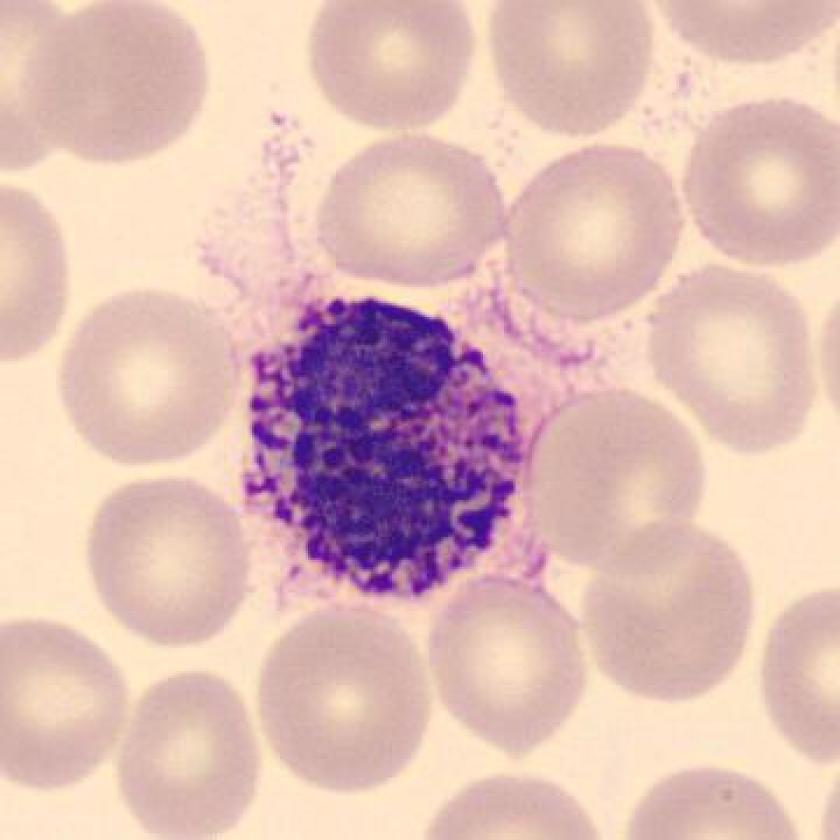basophil: (232, 291, 519, 601)
